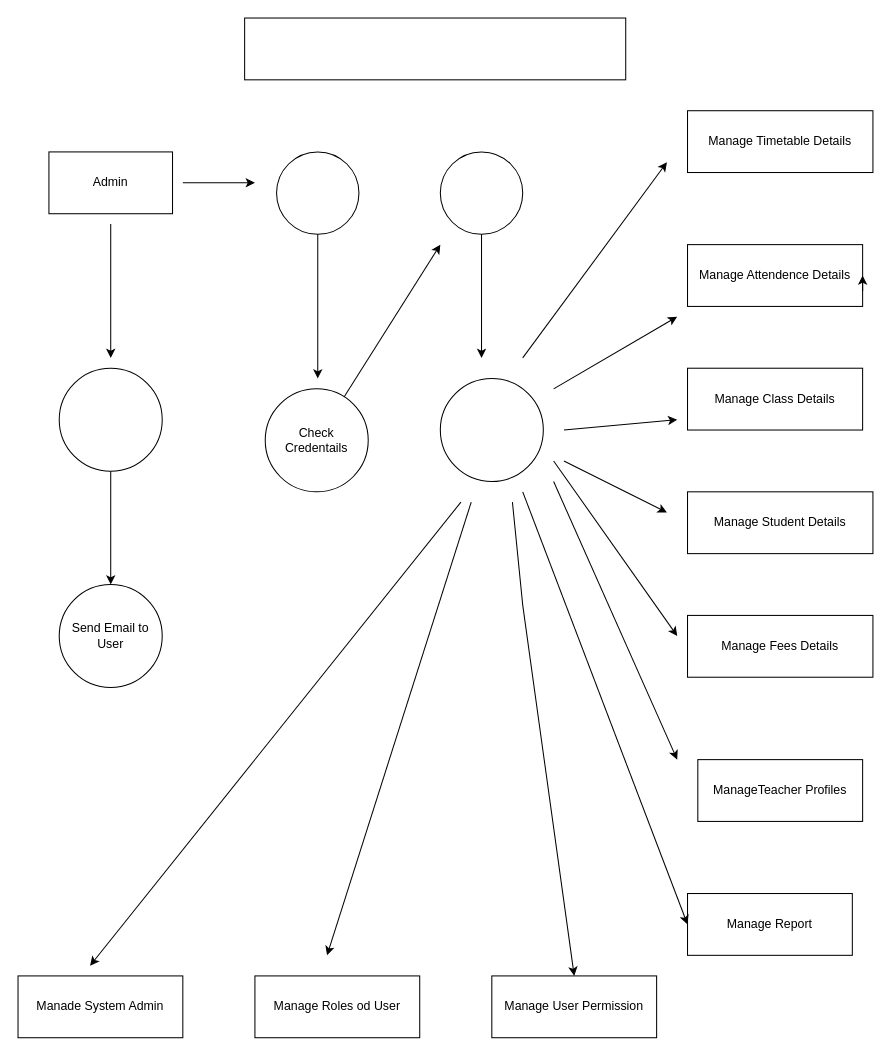
This 891x1056 diagram has some shape labels left out. The centre of each missing label's shape, as x and y in pixels:
"check Roles of Access" goes at [481,192].
"Forgot Password" goes at [110,419].
"login to System" goes at [317,192].
"Manage Modules" goes at [491,429].
"Student information System" goes at [435,48].
